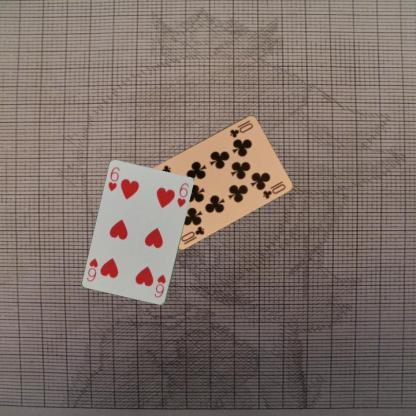10c: (227, 117, 254, 139), (178, 223, 206, 243)
6h: (152, 272, 167, 299), (106, 165, 120, 192)
